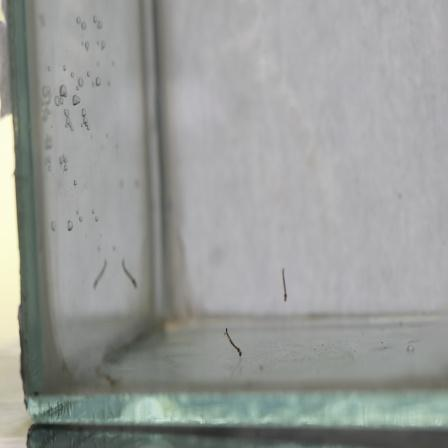Jentik-Nyamuk: (220, 323, 247, 361), (275, 268, 295, 303)
